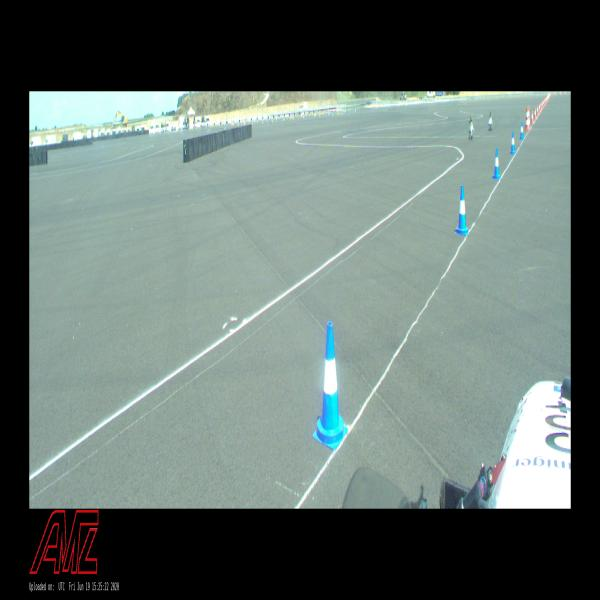blue_cone: (313, 321, 348, 450), (455, 185, 469, 235), (493, 148, 500, 179), (510, 131, 516, 154), (520, 121, 524, 140), (528, 116, 530, 130)
large_orange_cone: (526, 107, 530, 130), (528, 106, 531, 128)
orange_cone: (531, 111, 534, 123), (534, 108, 537, 118), (536, 106, 538, 116), (538, 104, 540, 112)
